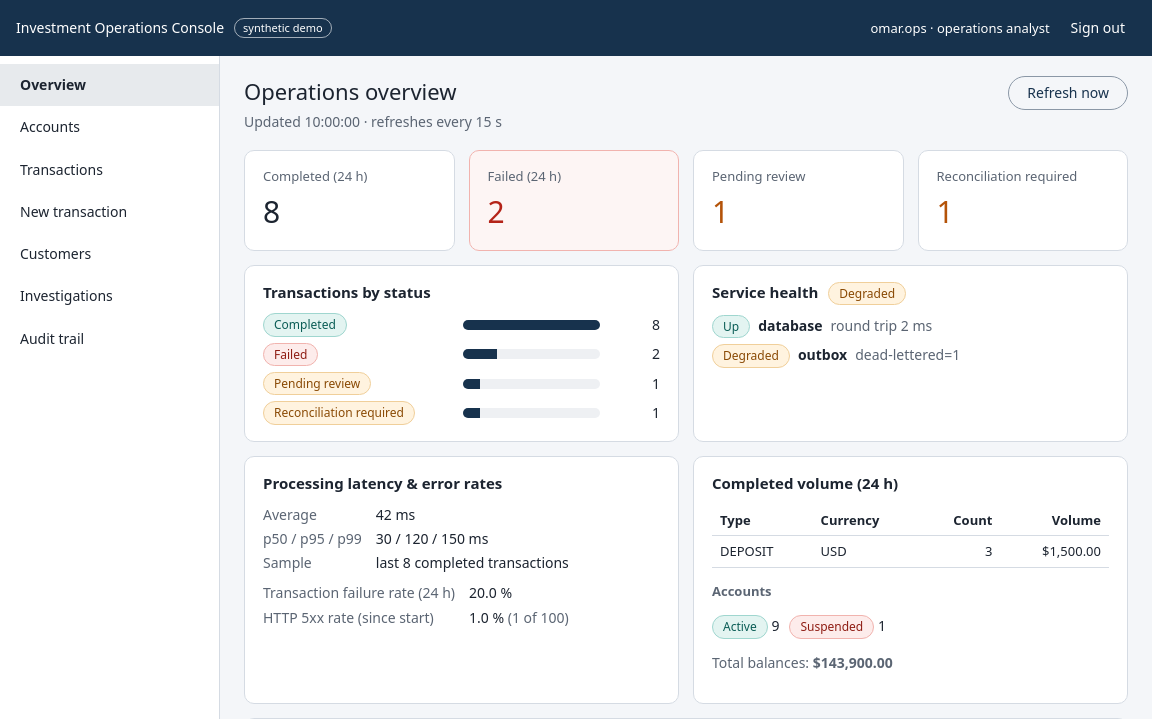
Dashboard › keeps the last good data and warns when a refresh fails
The image size is (1152, 719).
Expected: the text "Completed (24 h)" is shown, [263,167,367,185]
Click the button "Refresh now" at (1068, 93), box [1008,76,1128,110]
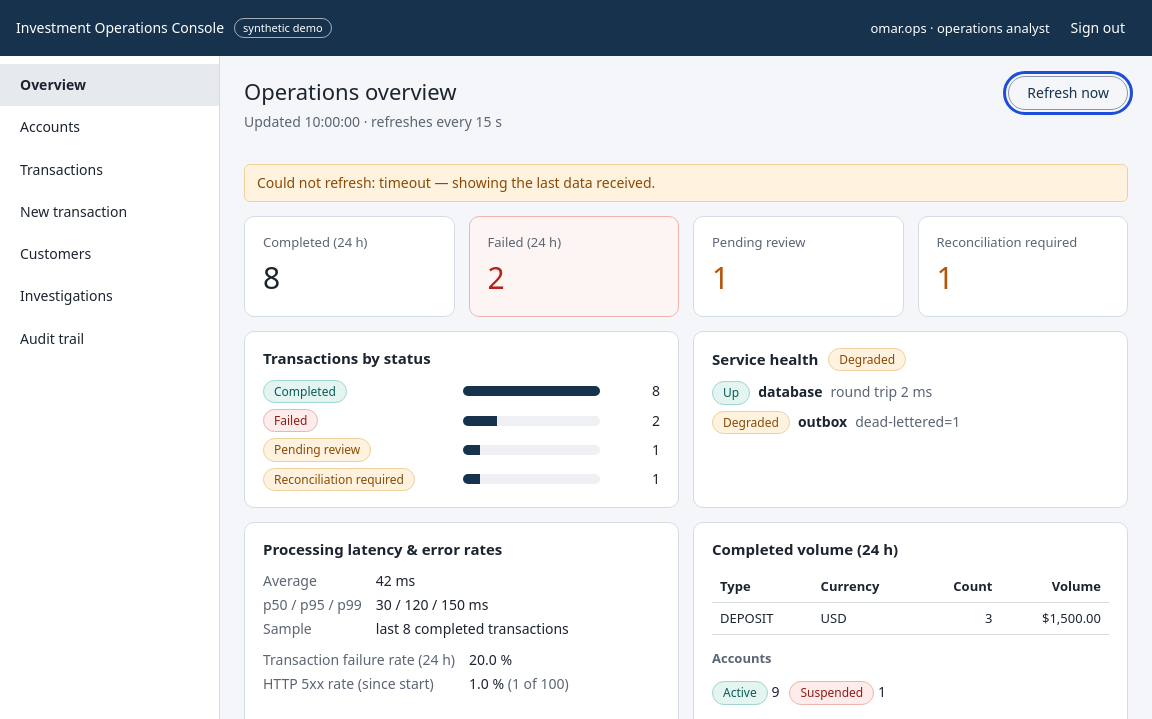
Expected: the text "Completed (24 h)" is shown, [263,234,367,252]
Expected: the text "Could not refresh: timeout — showing the last data received." is shown, [244,164,1128,202]
